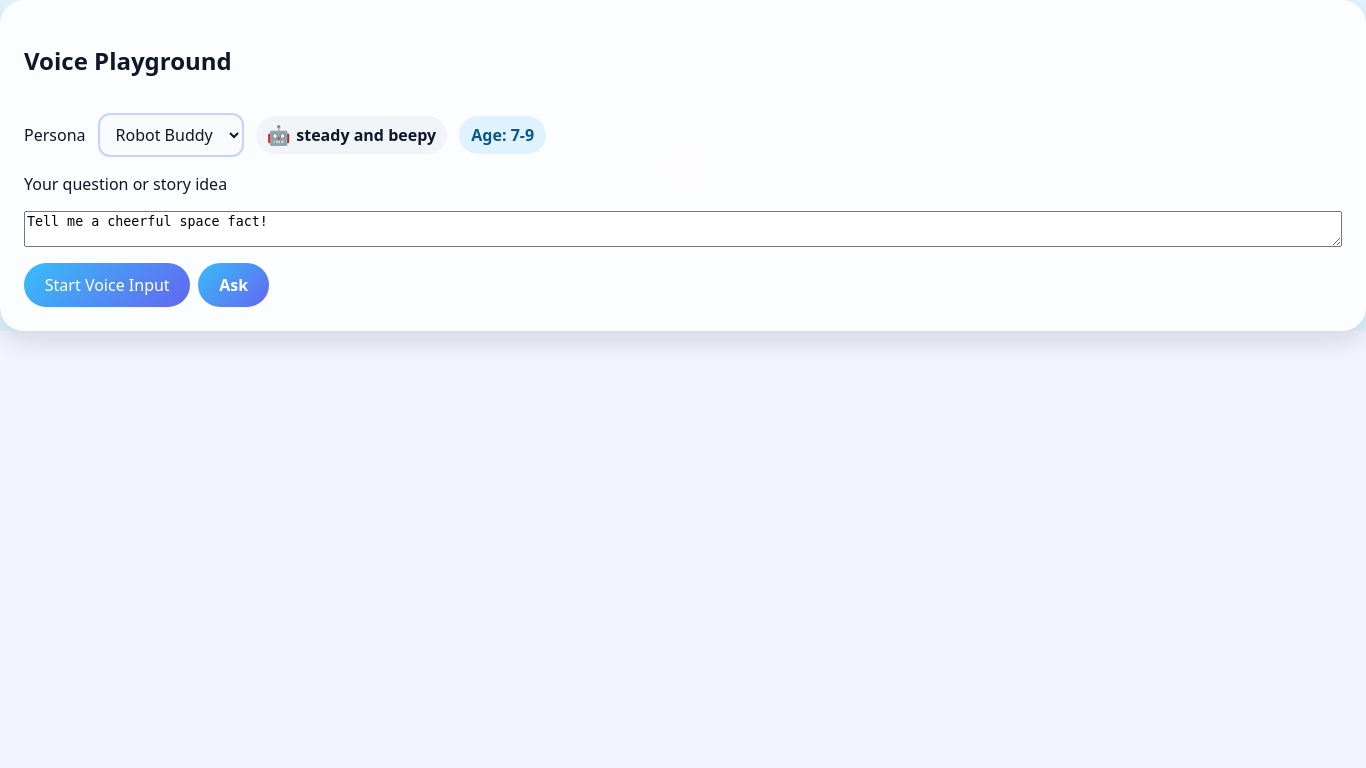
Test: ChatGPT tool-result envelopes › VoiceBar renders successful structured content
Click the button "Ask" at coordinates (234, 285), box [198,263,269,307]
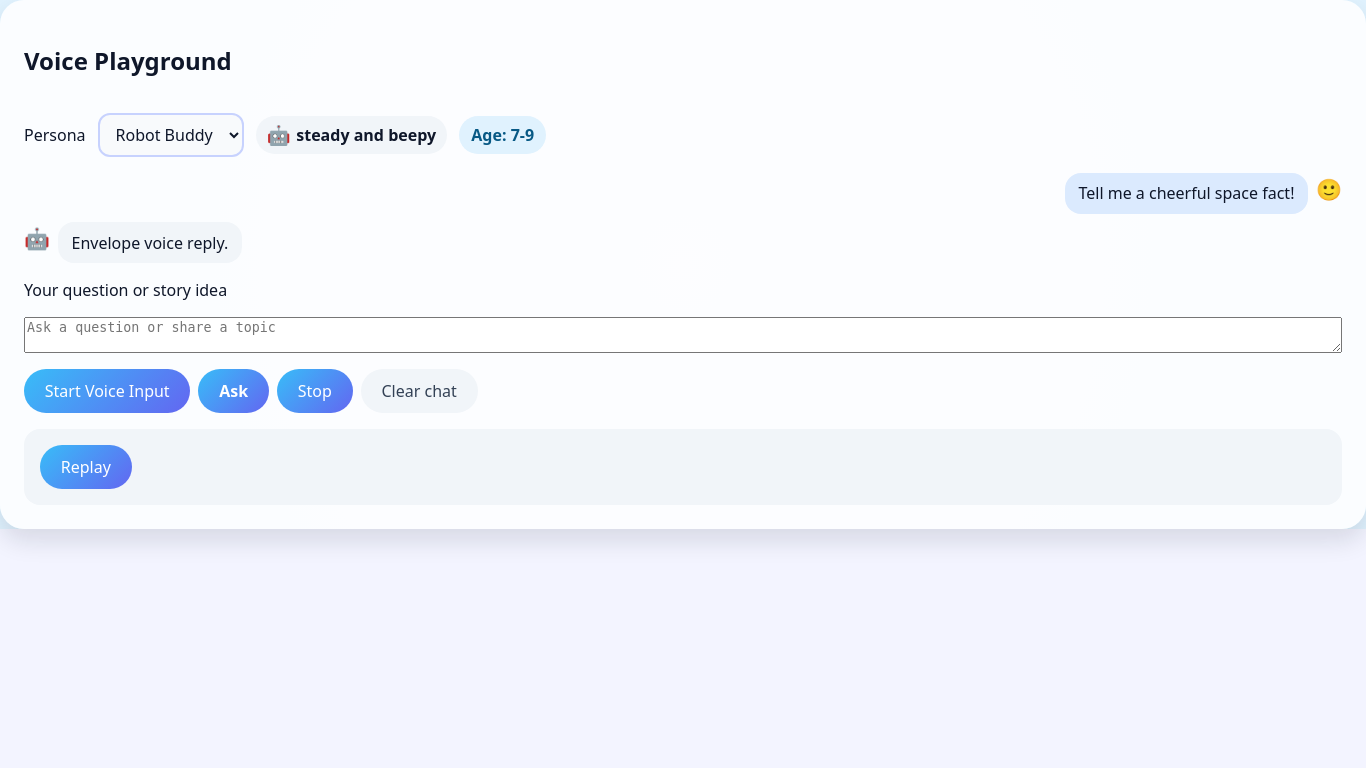
Now the text "Envelope voice reply." is shown, box [58,222,242,263]
